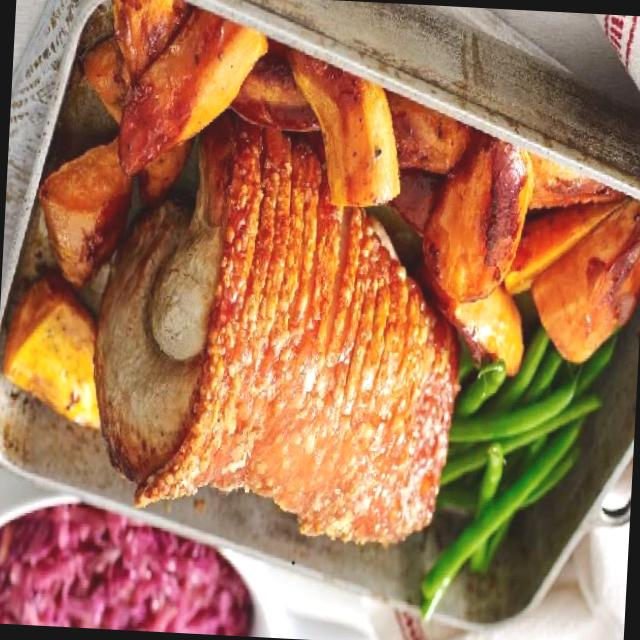thit chien: (95, 112, 459, 546)
